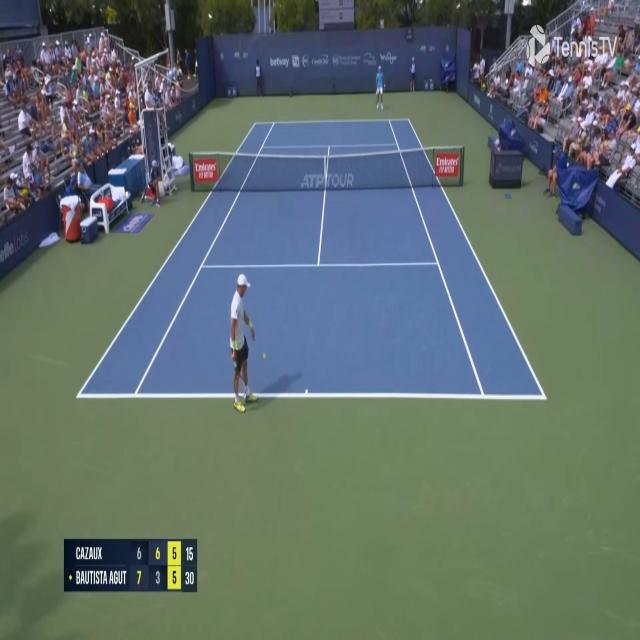tennis-player: (228, 271, 257, 415), (374, 64, 385, 110)
